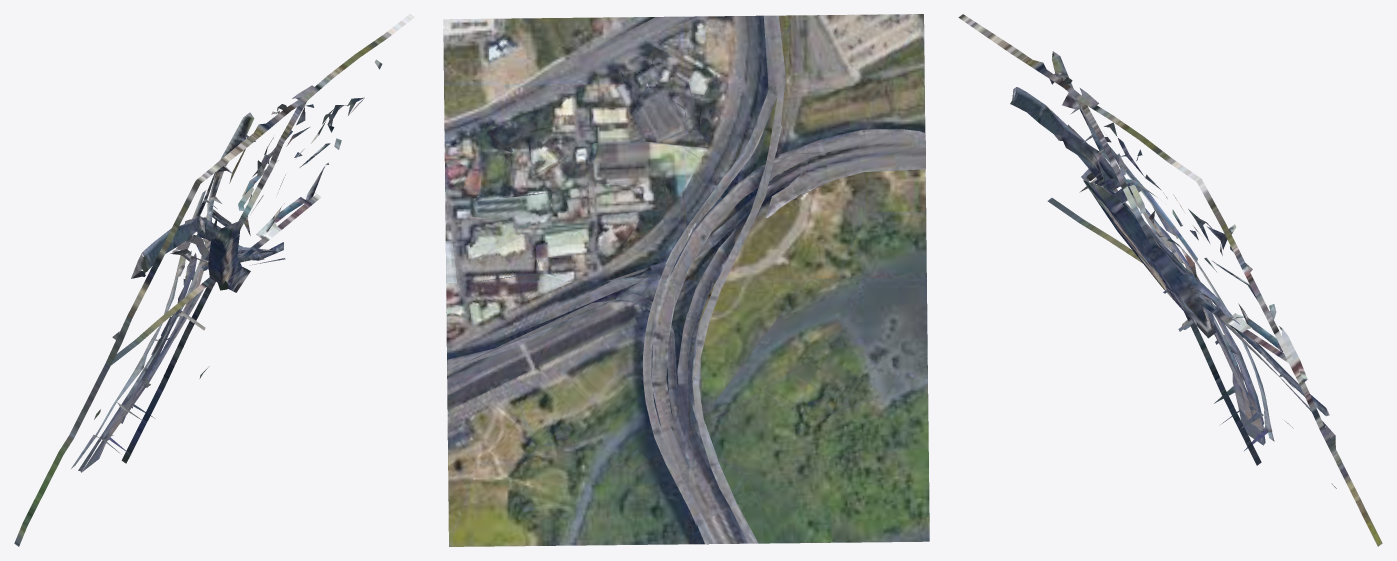
3 renders of one model, left to right at view 1: azimuth 30°, elevation 25°; view 2: azimuth 150°, elevation 25°; view 3: azimuth 270°, elevation 25°, orthographic. The views are drawn at different scales.
Bounding box in the file's own units: 610 × 567 × 515.
Materials: 2 (2 with a texture image).
